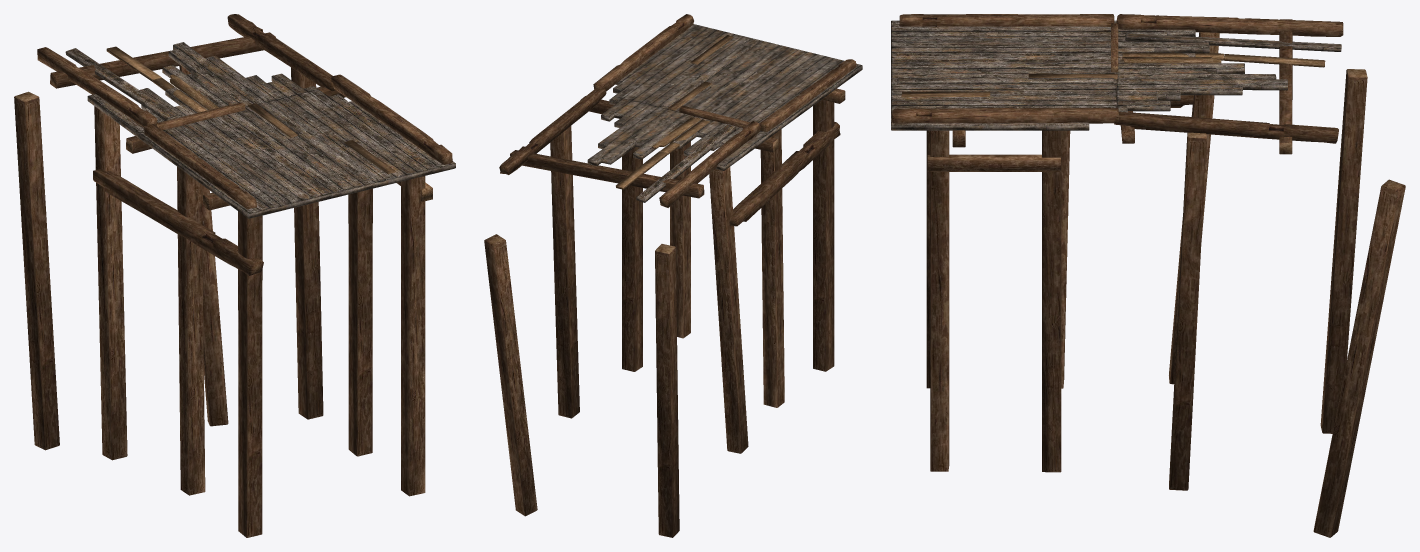
Rendered from o_mdl_env_buildingDockWoodEndA_c-transformed.glb.
The picture shows the model from 3 angles, left to right: view 1: azimuth 30°, elevation 25°; view 2: azimuth 150°, elevation 25°; view 3: azimuth 270°, elevation 25°; orthographic projection. The views are drawn at different scales.
Parts seen in each view (by area): view 1: default; view 2: default; view 3: default.
Boxes of the visible parts, bbox=[...] form: default: bbox=[14, 14, 455, 537]; default: bbox=[484, 14, 862, 537]; default: bbox=[891, 14, 1405, 537].
Size of the model in its own units: 6.02 by 10.63 by 11.42.
2 materials, 2 textured.
